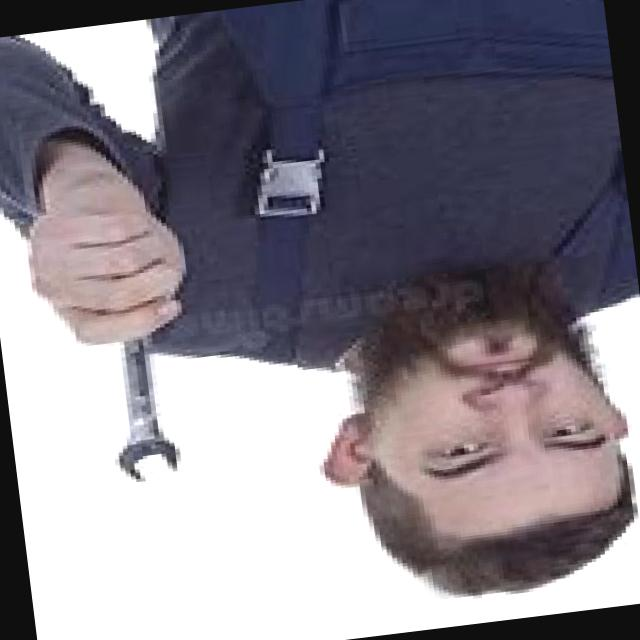wrench: (118, 341, 179, 481)
